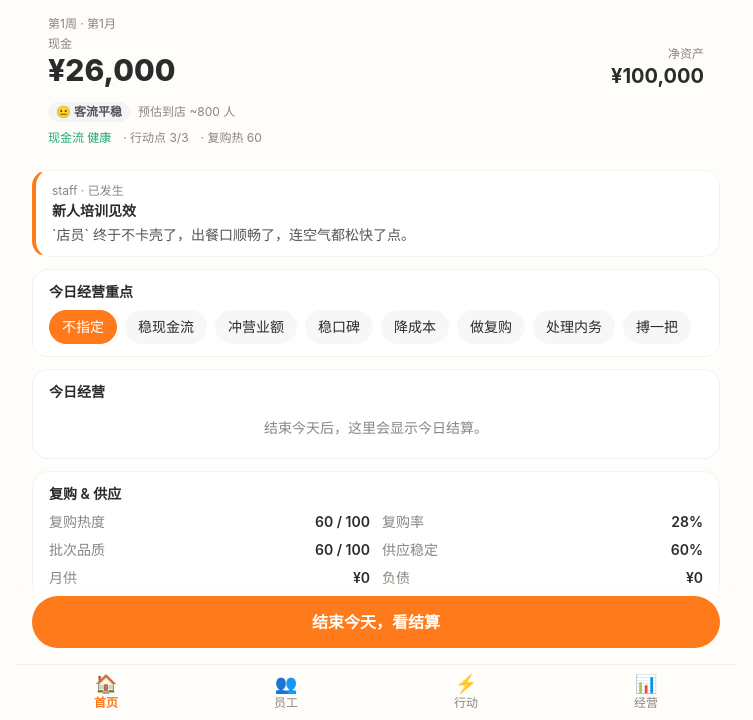
Scenario: AppShell · 渲染 › keep-alive：4 页始终同挂载，保证各 tab 滚动位置不丢
Note: 切到非首页再切回，首页内容仍在 DOM（滚动位置天然保留）
Click the button "👥 员工" at x=286, y=692, box left=196, top=665, right=376, bottom=719
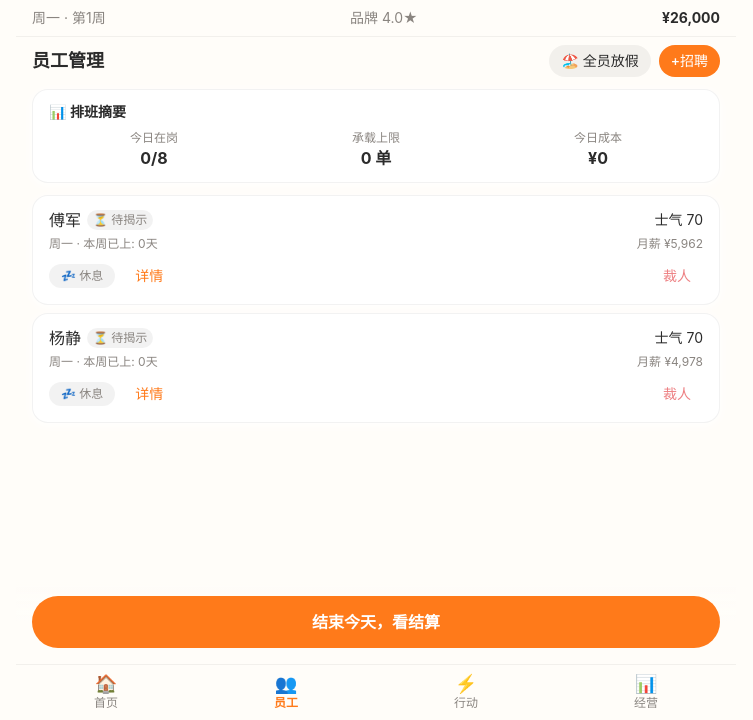
Click the button "🏠 首页" at x=106, y=692, box left=16, top=665, right=196, bottom=719
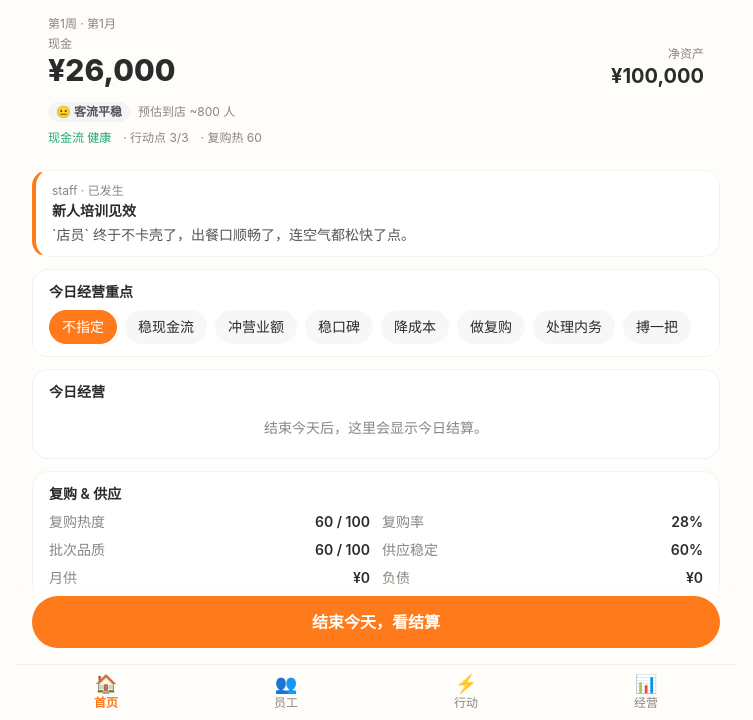
Result: the text "今日经营重点" is shown at left=49, top=283, right=133, bottom=300
